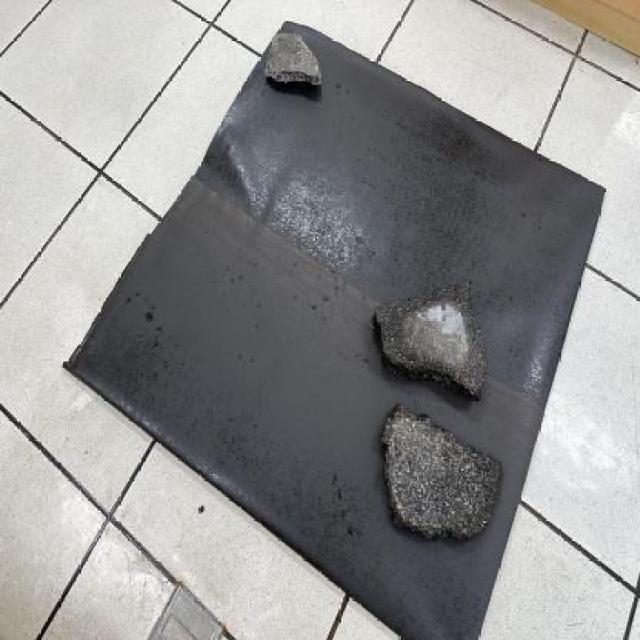Road Debris: (377, 294, 435, 384), (447, 446, 501, 540), (278, 34, 320, 68)
